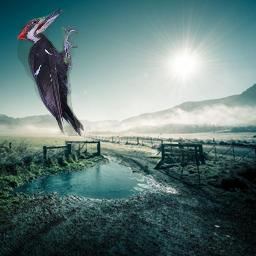Woodpecker: (17, 8, 84, 136)
